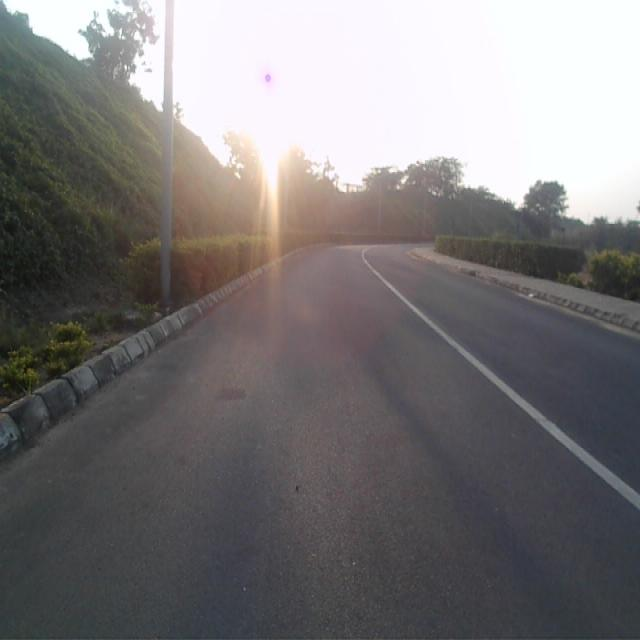lane: (0, 246, 640, 640)
